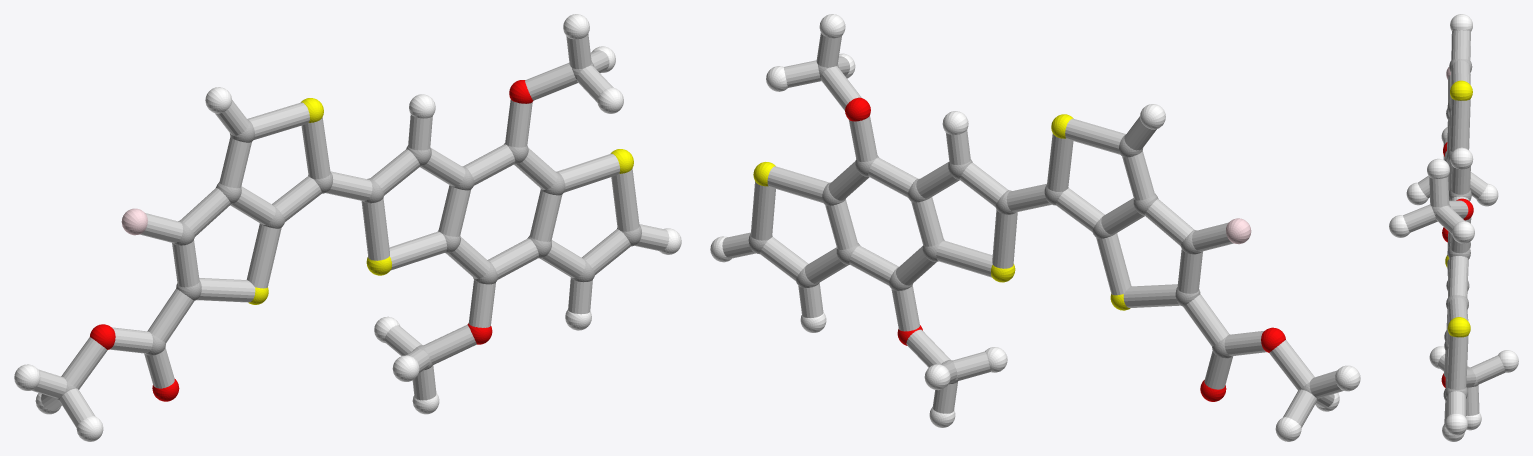
Rendered from color.glb.
3 views of the same model, side by side, from view 1: azimuth 30°, elevation 25°; view 2: azimuth 150°, elevation 25°; view 3: azimuth 270°, elevation 25° (orthographic). The views are drawn at different scales.
Visible parts, largest first — view 1: grp15205, grp8689, grp1, grp13395, grp7241; view 2: grp15205, grp8689, grp1, grp13395, grp7241; view 3: grp15205, grp8689, grp1, grp7241, grp13395.
Boxes of the visible parts, x1=… form: grp15205: x1=32, y1=34, x2=669, y2=427; grp8689: x1=14, y1=14, x2=681, y2=441; grp1: x1=55, y1=61, x2=641, y2=401; grp13395: x1=90, y1=80, x2=533, y2=401; grp7241: x1=248, y1=98, x2=633, y2=304; grp15205: x1=722, y1=33, x2=1343, y2=427; grp8689: x1=710, y1=14, x2=1360, y2=441; grp1: x1=748, y1=64, x2=1320, y2=400; grp13395: x1=845, y1=97, x2=1285, y2=401; grp7241: x1=753, y1=114, x2=1130, y2=310; grp15205: x1=1403, y1=30, x2=1505, y2=426; grp8689: x1=1389, y1=14, x2=1518, y2=441; grp1: x1=1431, y1=59, x2=1478, y2=402; grp7241: x1=1445, y1=80, x2=1472, y2=337; grp13395: x1=1441, y1=142, x2=1473, y2=387.
Bounding box in the file's own units: 17.19 × 9.38 × 3.39.
